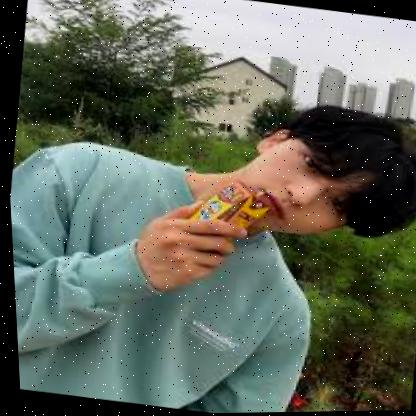person: (208, 84, 416, 253)
